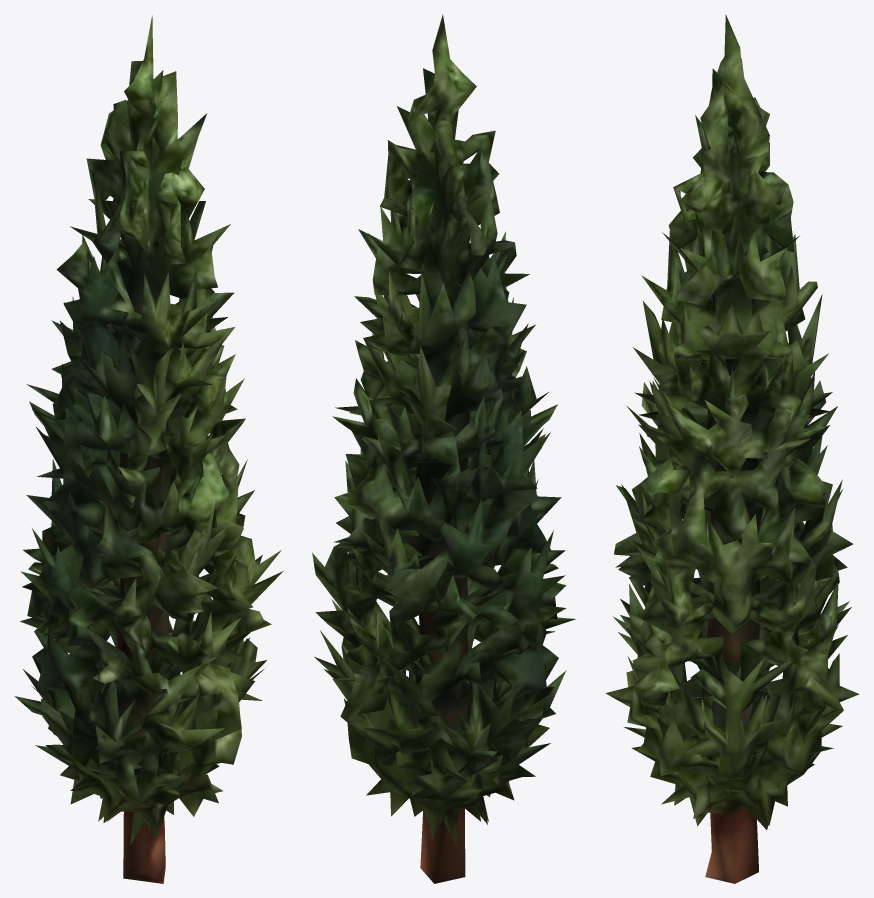
Rendered from cypress.glb.
The picture shows the model from 3 angles, left to right: view 1: azimuth 30°, elevation 25°; view 2: azimuth 150°, elevation 25°; view 3: azimuth 270°, elevation 25°; orthographic projection.
Visible parts, largest first — view 1: tripo_node_b6a79385-14a8-4b22-a8ec-76ebedc721e2; view 2: tripo_node_b6a79385-14a8-4b22-a8ec-76ebedc721e2; view 3: tripo_node_b6a79385-14a8-4b22-a8ec-76ebedc721e2.
Boxes of the visible parts, x1=… form: tripo_node_b6a79385-14a8-4b22-a8ec-76ebedc721e2: x1=14, y1=15, x2=283, y2=883; tripo_node_b6a79385-14a8-4b22-a8ec-76ebedc721e2: x1=312, y1=14, x2=575, y2=883; tripo_node_b6a79385-14a8-4b22-a8ec-76ebedc721e2: x1=605, y1=14, x2=859, y2=883.
Size of the model in its own units: 0.2767 by 1 by 0.2674.
Materials: 1 (1 with a texture image).
